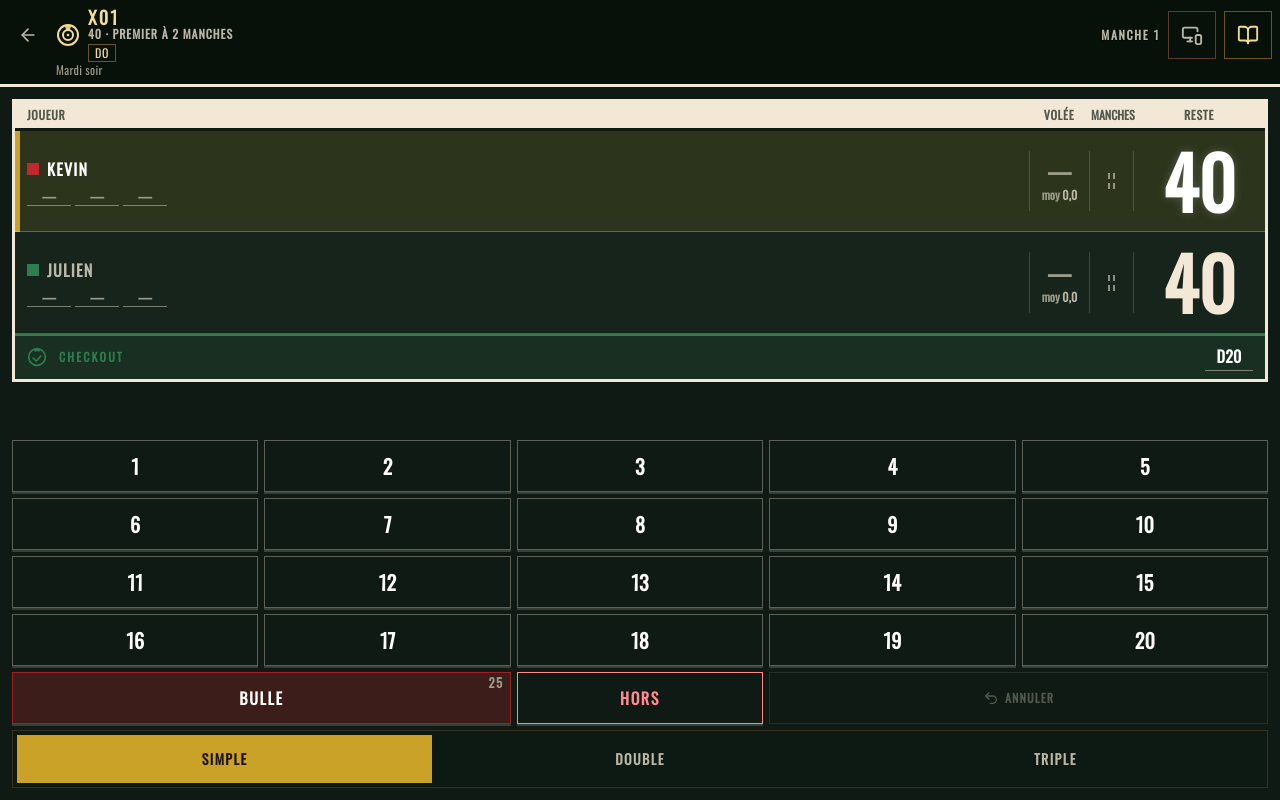
Test: Écran de match › annule la volée entière sur un bust et rend la main
This screenshot has width=1280, height=800.
Check: the element named "Score restant de Kevin" reads "40", box 1163,127 -> 1236,234
Step 1. Click the button "Triple" → coordinates (1055, 759), box 848,735 -> 1263,783
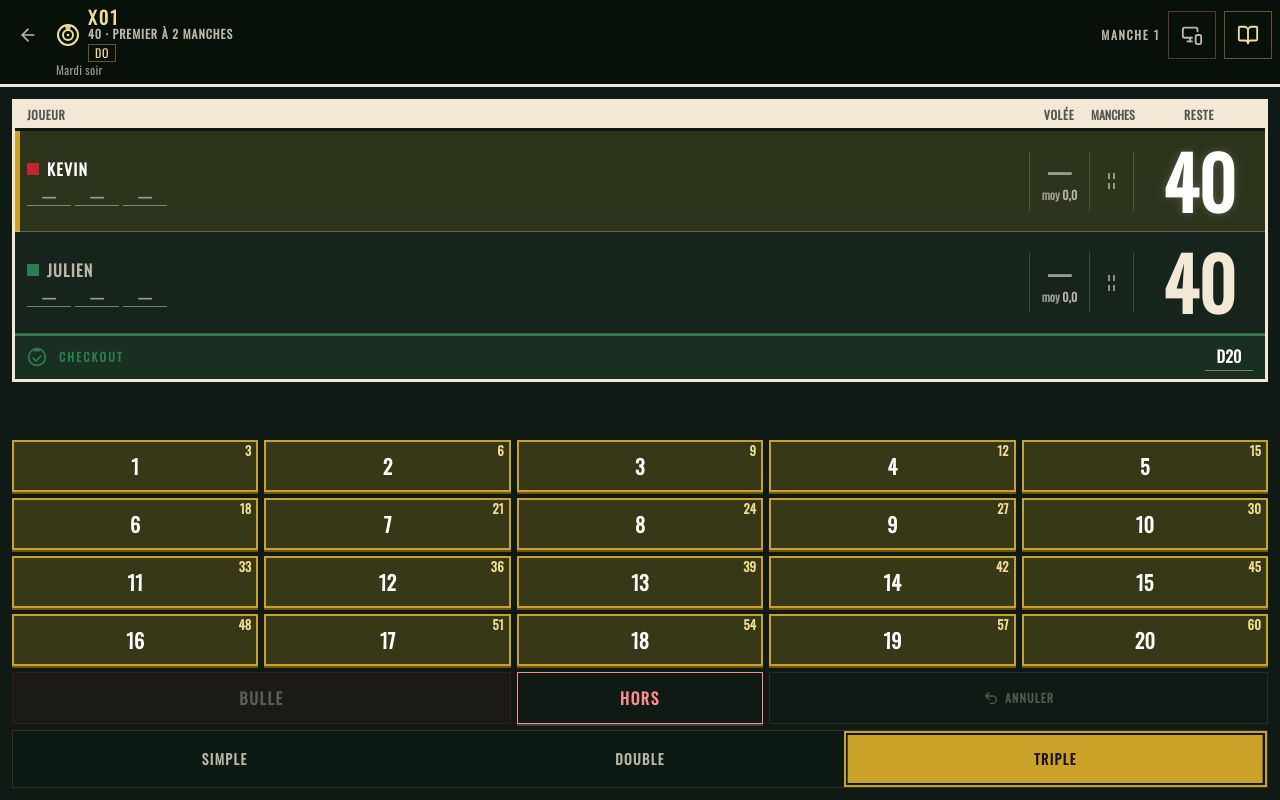
Step 2. Click the button "60 20" → coordinates (1145, 640), box 1022,614 -> 1268,666
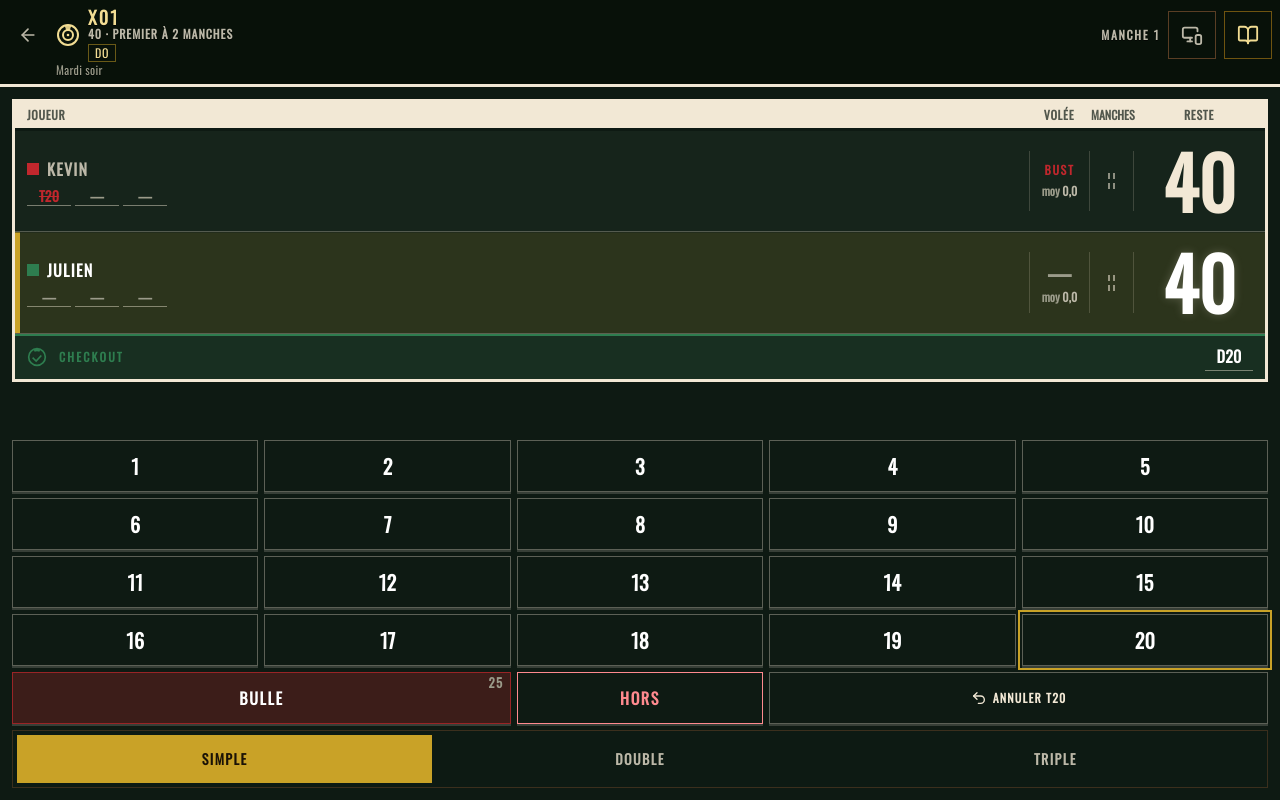
Check: the element named "Score restant de Kevin" reads "40", box 1163,127 -> 1236,234
Check: the text "Bust" is shown, box 1044,162 -> 1075,178
